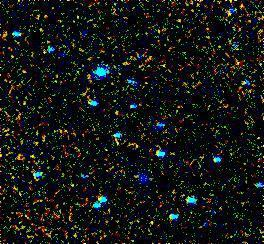star: (49, 36, 79, 66)
